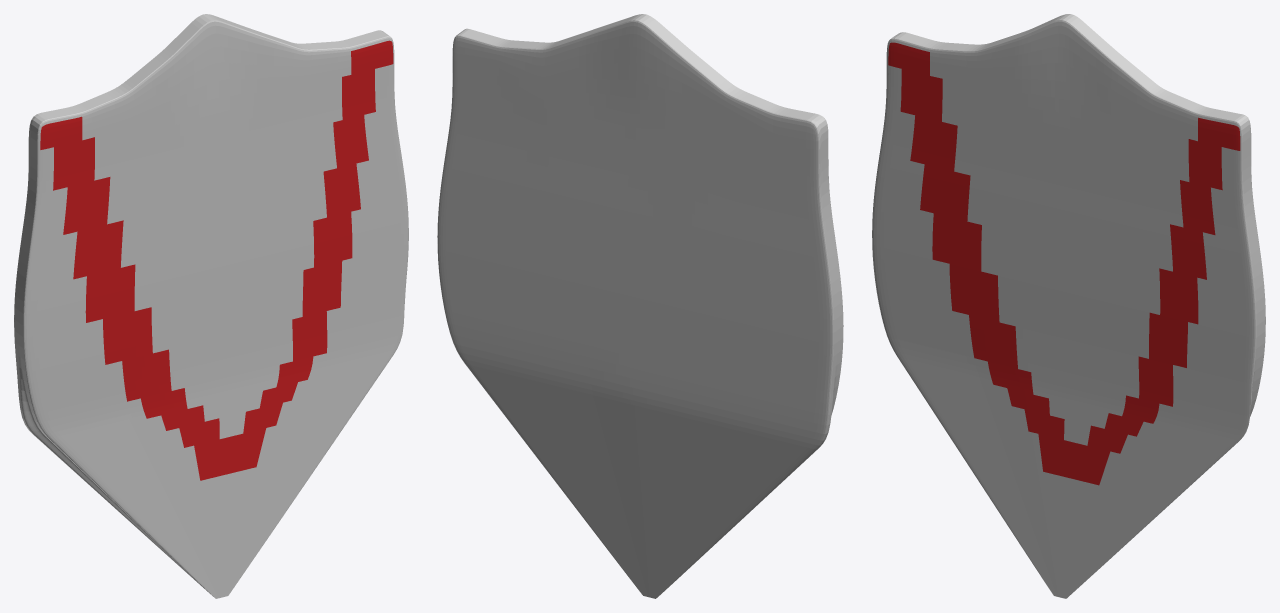
Rendered from escut_base.fbx.
3 views of the same model, side by side, from view 1: azimuth 30°, elevation 25°; view 2: azimuth 150°, elevation 25°; view 3: azimuth 330°, elevation 25° (orthographic). The views are drawn at different scales.
Parts seen in each view (by area): view 1: escut_base; view 2: escut_base; view 3: escut_base.
Part boxes in pixels (box(x1,y1,x2,y2)): escut_base: box(14, 14, 408, 598); escut_base: box(437, 14, 843, 598); escut_base: box(872, 14, 1265, 598).
Bounding box in the file's own units: 35.26 × 50.06 × 2.51.
